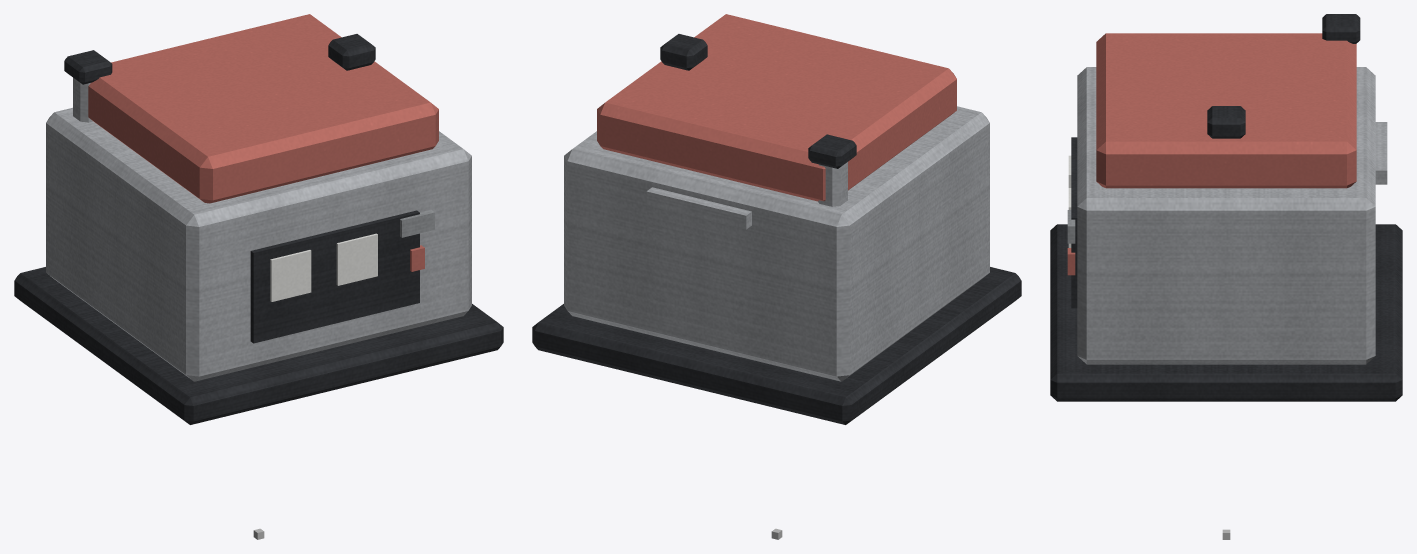
The model's file is rv_furn_generator.gltf.
The picture shows the model from 3 angles, left to right: view 1: azimuth 30°, elevation 25°; view 2: azimuth 150°, elevation 25°; view 3: azimuth 270°, elevation 25°; orthographic projection.
Visible parts, largest first — view 1: RV_Furn_Generator; view 2: RV_Furn_Generator; view 3: RV_Furn_Generator.
Part boxes in pixels (<box>): RV_Furn_Generator: <box>14,14,503,539</box>; RV_Furn_Generator: <box>532,14,1021,539</box>; RV_Furn_Generator: <box>1050,14,1402,539</box>.
Size of the model in its own units: 0.96 by 1.36 by 0.92.
6 materials, 5 textured.
